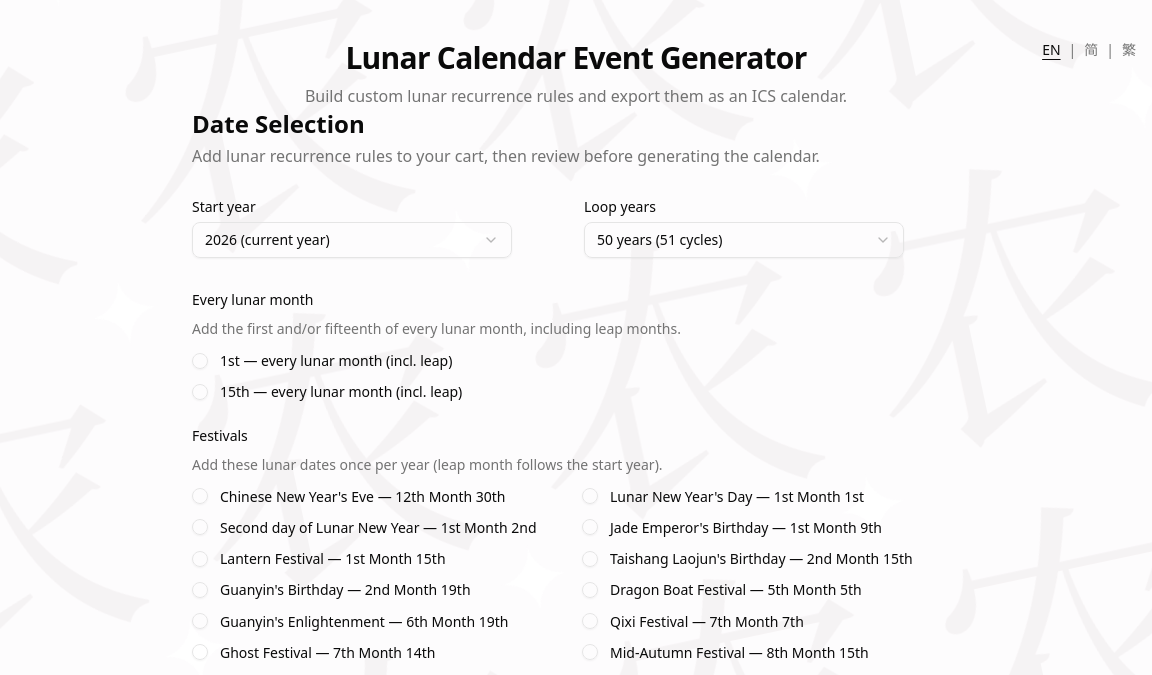
Test: wizard chrome locale › language options switch headers, labels, and placeholders
Expected: the heading "Lunar Calendar Event Generator" is shown, [305,40,847,76]
Expected: the text "Build custom lunar recurrence rules and export them as an ICS calendar." is shown, [305,84,847,108]
Click the button named "简体中文": [1091, 50] box [1084,40,1098,60]
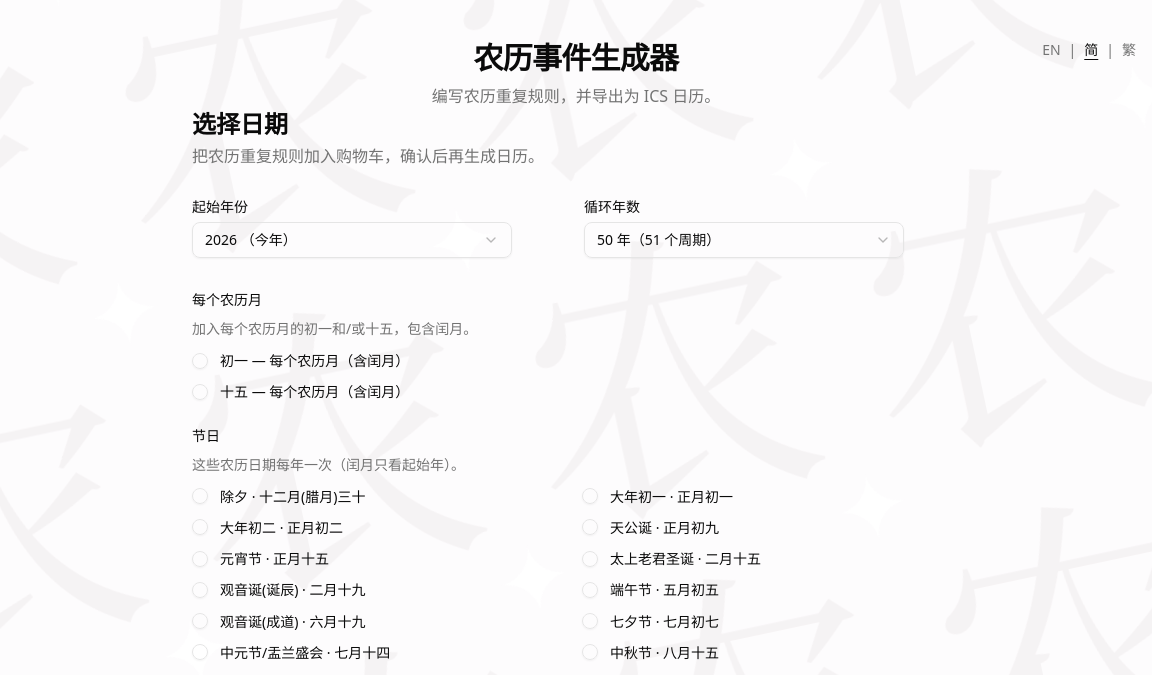
Expected: the heading named "Lunar Calendar Event Generator" reads "农历事件生成器", [474,37,678,78]
Expected: the text "编写农历重复规则，并导出为 ICS 日历。" is shown, [432,84,720,108]
Expected: the heading "选择日期" is shown, [192,107,288,140]
Click the button named "繁體中文": [1129, 50] box [1122,40,1136,60]
(page scrolled)
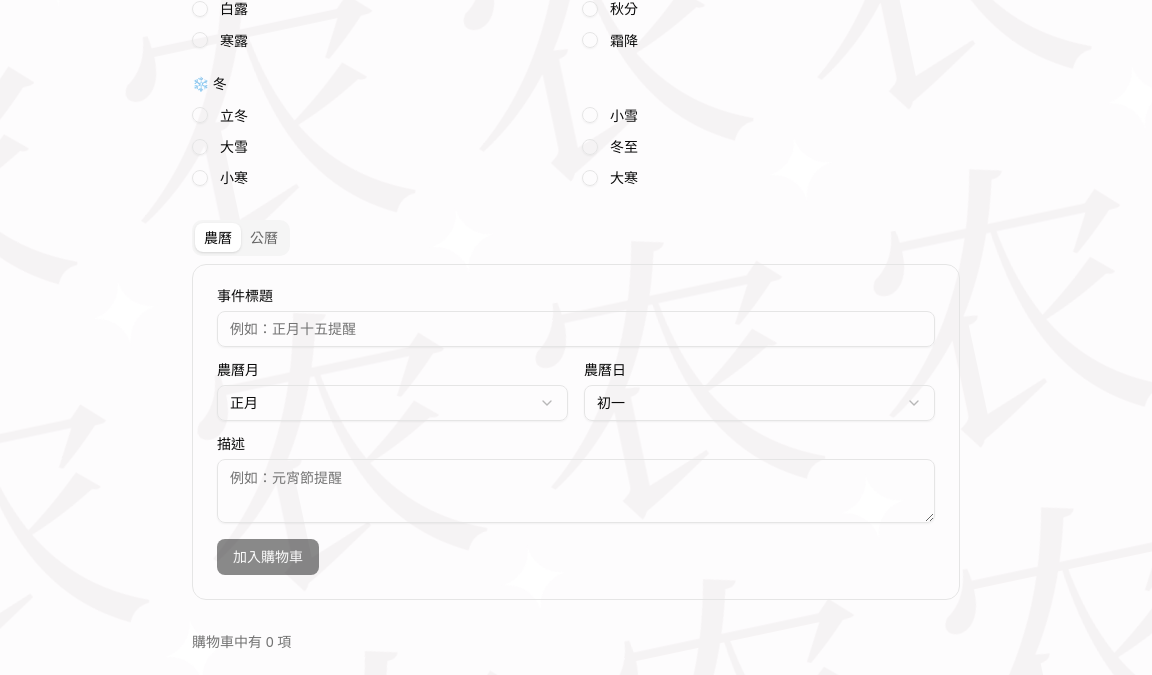
Expected: the field with placeholder "例如：正月十五提醒" is shown, [217,310,935,346]
Expected: the text "農曆月" is shown, [217,360,259,378]
